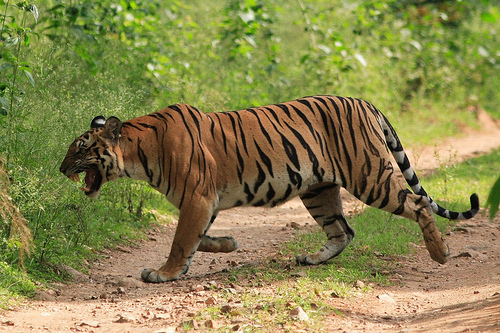Tigre: (55, 102, 478, 273)
